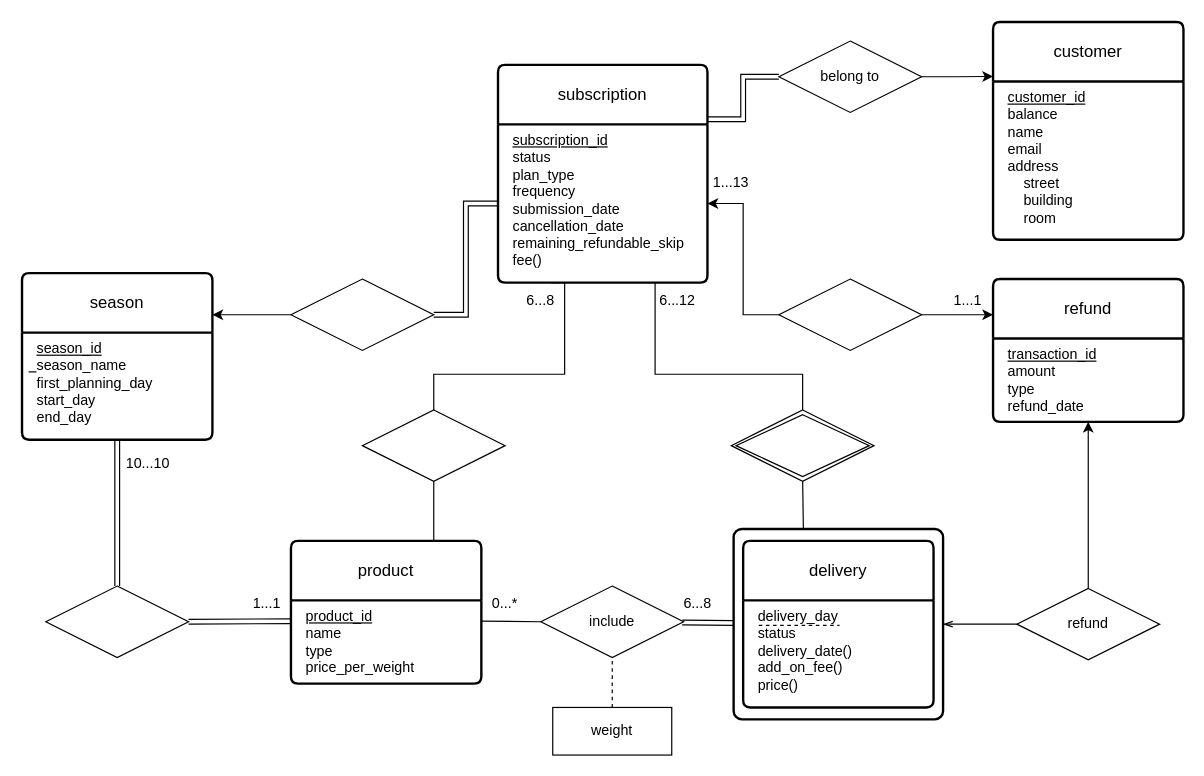
Some shapes in this 1204 by 776 pixel diagram are drawn without their labels. The centre of each missing label's shape, as x and y in pixels:
"choose" goes at (433,445).
"grow" goes at (117,621).
"have" goes at (802,445).
"schedule" goes at (362,314).
"settled by" goes at (850,314).
